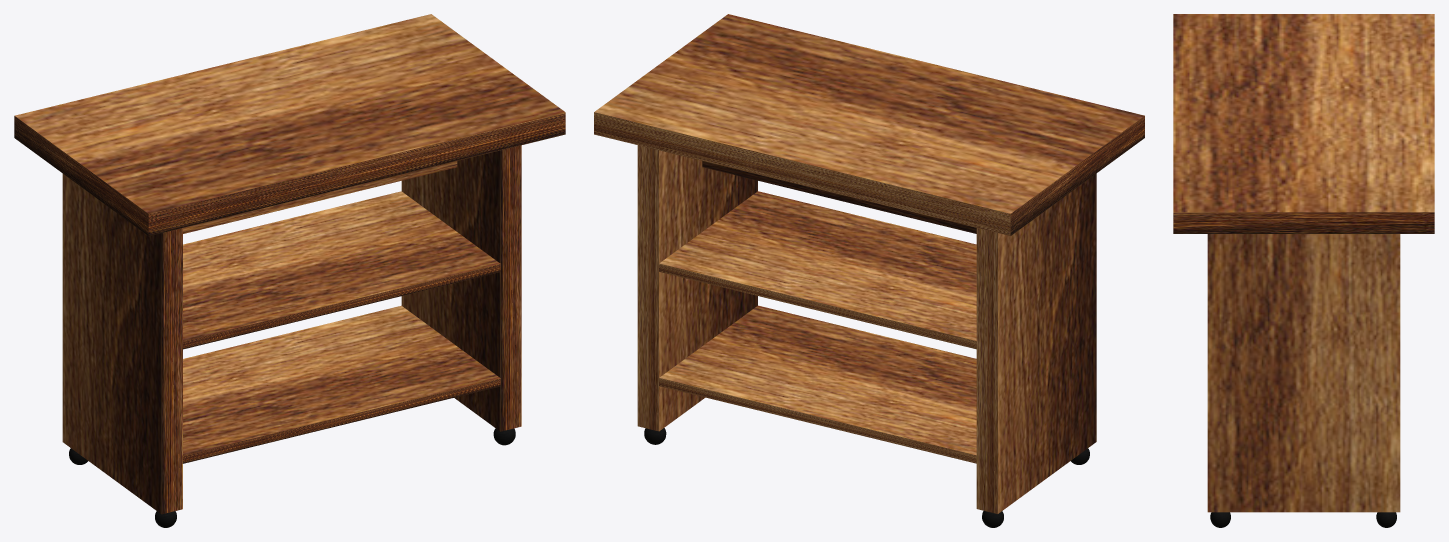
The model's file is mueble1.obj.
3 views of the same model, side by side, from view 1: azimuth 30°, elevation 25°; view 2: azimuth 150°, elevation 25°; view 3: azimuth 270°, elevation 25° (orthographic). The views are drawn at different scales.
Visible parts, largest first — view 1: pCube1, pasted__pasted__pCube1pasted__group1group2, pCube2, pasted__pCube2group7, pasted__pCube1group1, pasted__pCube1group3; view 2: pCube1, pasted__pasted__pCube1pasted__group1group2, pCube2, pasted__pCube2group7, pasted__pCube1group1, pasted__pCube1group3; view 3: pCube1, pasted__pCube1group1.
Boxes of the visible parts, x1,y1,x2,y2 form: pCube1: (14, 14, 565, 236); pasted__pasted__pCube1pasted__group1group2: (62, 174, 182, 514); pCube2: (182, 191, 500, 349); pasted__pCube2group7: (182, 305, 500, 463); pasted__pCube1group1: (401, 145, 521, 431); pasted__pCube1group3: (183, 161, 457, 233); pCube1: (594, 14, 1144, 235); pasted__pasted__pCube1pasted__group1group2: (976, 173, 1096, 513); pCube2: (659, 191, 976, 349); pasted__pCube2group7: (659, 305, 976, 463); pasted__pCube1group1: (637, 145, 757, 431); pasted__pCube1group3: (702, 161, 976, 233); pCube1: (1173, 14, 1434, 233); pasted__pCube1group1: (1207, 234, 1400, 512).
Bounding box in the file's own units: 2 × 1.57 × 1.12.
Materials: 2 (2 with a texture image).
